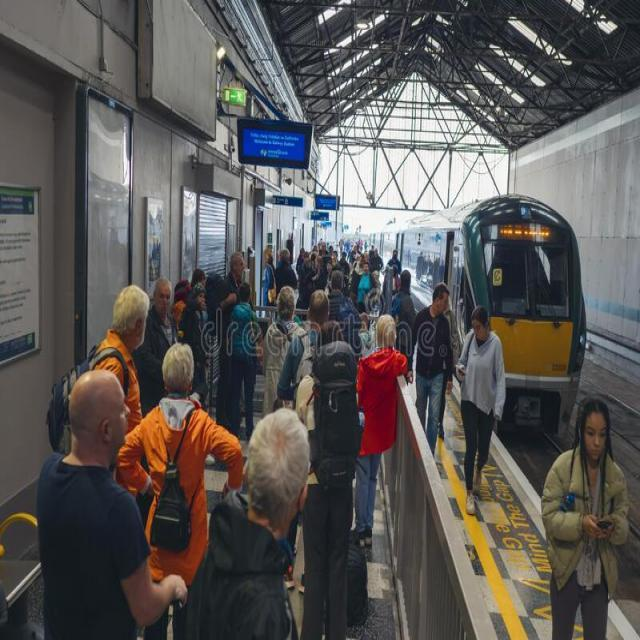Backpacks: (310, 339, 369, 503), (148, 444, 195, 558)
